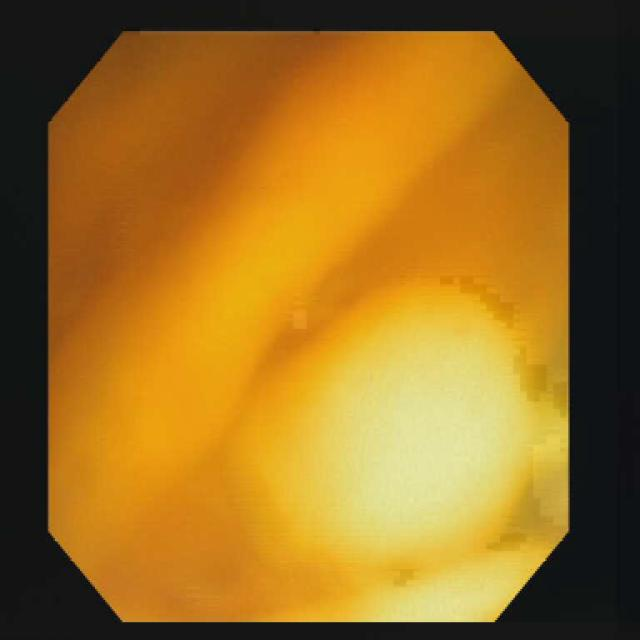tumor: (232, 284, 557, 582)
